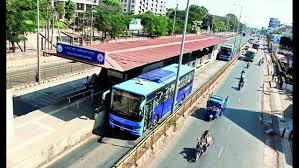Chigari: (99, 57, 195, 144), (218, 42, 236, 63)
